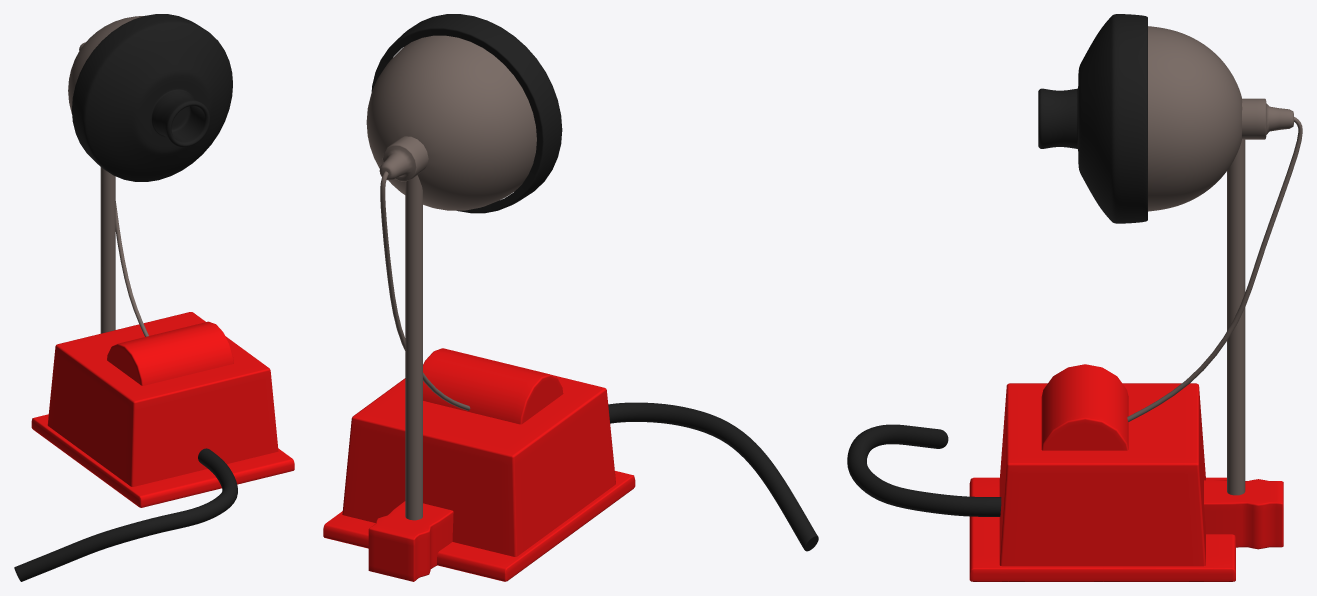
File: eggCandlingDevice.glb
The picture shows the model from 3 angles, left to right: view 1: azimuth 30°, elevation 25°; view 2: azimuth 150°, elevation 25°; view 3: azimuth 270°, elevation 25°; orthographic projection. The views are drawn at different scales.
Visible parts, largest first — view 1: eggCandlingDevice box, eggCandlingDevice lamp_front, eggCandlingDevice box_cylinder, eggCandlingDevice box_platform, eggCandlingDevice wire_front, eggCandlingDevice rod, eggCandlingDevice lamp_middle, eggCandlingDevice wire_back; view 2: eggCandlingDevice box, eggCandlingDevice lamp_middle, eggCandlingDevice lamp_front, eggCandlingDevice box_cylinder, eggCandlingDevice rod, eggCandlingDevice box_platform, eggCandlingDevice wire_front, eggCandlingDevice box_extrude, lamp_back eggCandlingDevice, eggCandlingDevice wire_back; view 3: eggCandlingDevice box, eggCandlingDevice lamp_front, eggCandlingDevice lamp_middle, eggCandlingDevice box_platform, eggCandlingDevice box_cylinder, eggCandlingDevice rod, eggCandlingDevice wire_front, eggCandlingDevice box_extrude, eggCandlingDevice wire_back, lamp_back eggCandlingDevice.
Boxes of the visible parts, bbox=[...] form: eggCandlingDevice box: bbox=[47, 312, 278, 486]; eggCandlingDevice lamp_front: bbox=[72, 14, 232, 181]; eggCandlingDevice box_cylinder: bbox=[107, 321, 233, 385]; eggCandlingDevice box_platform: bbox=[31, 414, 294, 507]; eggCandlingDevice wire_front: bbox=[14, 448, 237, 581]; eggCandlingDevice rod: bbox=[100, 167, 115, 333]; eggCandlingDevice lamp_middle: bbox=[68, 16, 143, 114]; eggCandlingDevice wire_back: bbox=[115, 201, 148, 336]; eggCandlingDevice box: bbox=[342, 374, 615, 556]; eggCandlingDevice lamp_middle: bbox=[366, 35, 536, 210]; eggCandlingDevice lamp_front: bbox=[371, 14, 562, 213]; eggCandlingDevice box_cylinder: bbox=[423, 348, 563, 424]; eggCandlingDevice rod: bbox=[405, 175, 422, 520]; eggCandlingDevice box_platform: bbox=[323, 471, 635, 581]; eggCandlingDevice wire_front: bbox=[608, 402, 818, 551]; eggCandlingDevice box_extrude: bbox=[368, 501, 453, 581]; lamp_back eggCandlingDevice: bbox=[379, 136, 428, 181]; eggCandlingDevice wire_back: bbox=[380, 171, 470, 410]; eggCandlingDevice box: bbox=[999, 383, 1205, 566]; eggCandlingDevice lamp_front: bbox=[1038, 14, 1147, 223]; eggCandlingDevice lamp_middle: bbox=[1148, 26, 1242, 211]; eggCandlingDevice box_platform: bbox=[969, 477, 1235, 581]; eggCandlingDevice box_cylinder: bbox=[1041, 364, 1128, 450]; eggCandlingDevice rod: bbox=[1227, 139, 1245, 495]; eggCandlingDevice wire_front: bbox=[847, 424, 1001, 516]; eggCandlingDevice box_extrude: bbox=[1204, 479, 1283, 549]; eggCandlingDevice wire_back: bbox=[1127, 117, 1302, 421]; lamp_back eggCandlingDevice: bbox=[1242, 98, 1293, 139].
Bounding box in the file's own units: 0.0197 × 0.0291 × 0.0219.
Materials: 3 (3 with a texture image).
